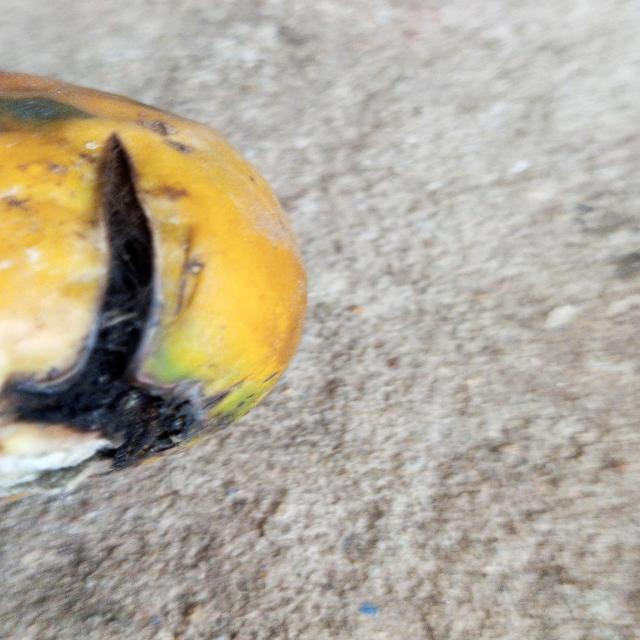damaged: (0, 70, 309, 490)
